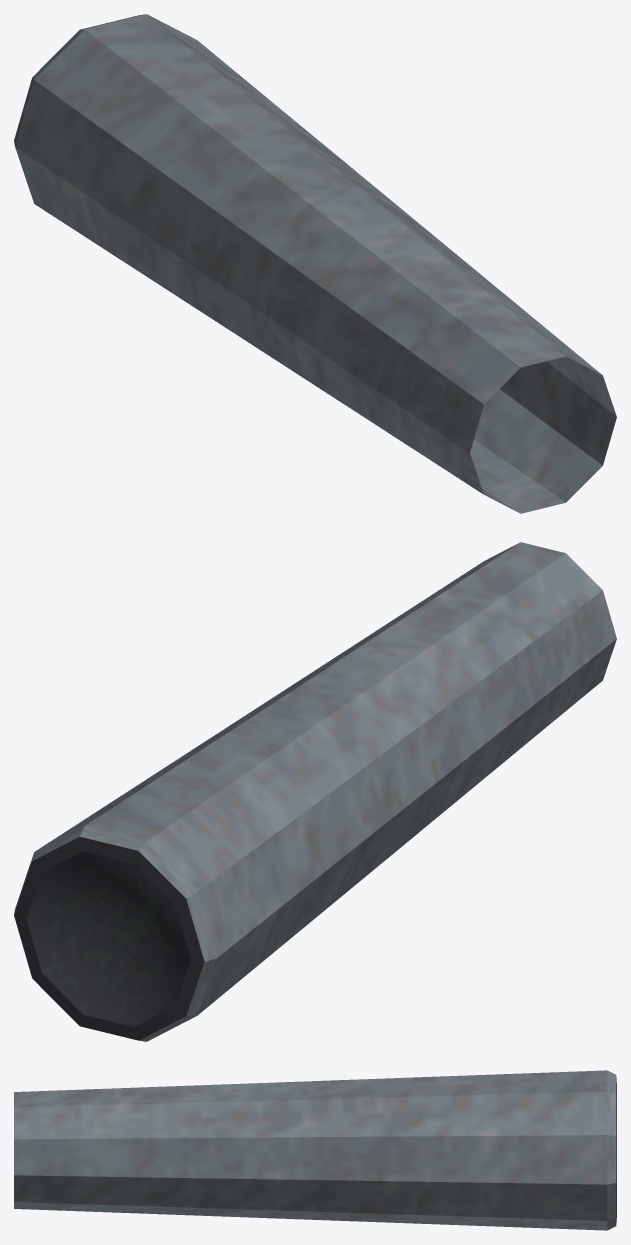
File: MGBarrel.obj
3 views of the same model, one above another, from view 1: azimuth 30°, elevation 25°; view 2: azimuth 150°, elevation 25°; view 3: azimuth 270°, elevation 25° (orthographic). The views are drawn at different scales.
Visible parts, largest first — view 1: MGBarrel; view 2: MGBarrel; view 3: MGBarrel.
Boxes of the visible parts, x1,y1,x2,y2 form: MGBarrel: (14, 14, 616, 513); MGBarrel: (14, 542, 616, 1041); MGBarrel: (14, 1070, 616, 1230).
Bounding box in the file's own units: 1.29 × 1.23 × 4.82.
Materials: 1 (1 with a texture image).
